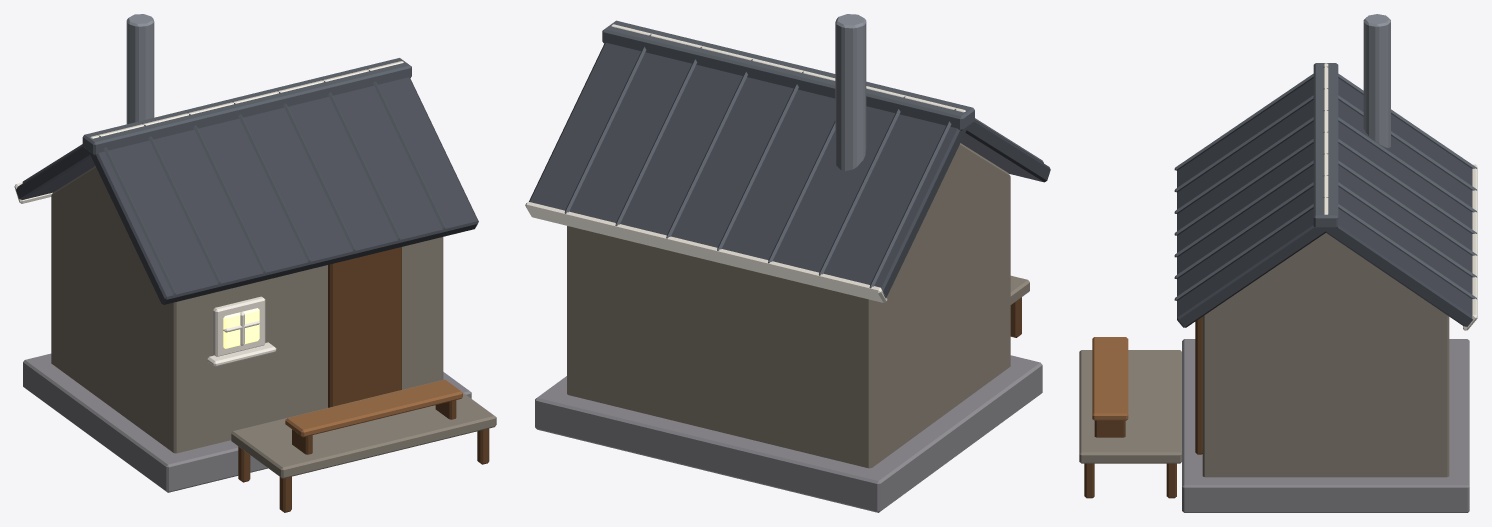
The model's file is bastu.glb.
3 renders of one model, left to right at view 1: azimuth 30°, elevation 25°; view 2: azimuth 150°, elevation 25°; view 3: azimuth 270°, elevation 25°, orthographic. The views are drawn at different scales.
Parts seen in each view (by area): view 1: bastu; view 2: bastu; view 3: bastu.
Boxes of the visible parts, x1=… form: bastu: x1=14, y1=14, x2=496, y2=512; bastu: x1=525, y1=14, x2=1050, y2=512; bastu: x1=1079, y1=14, x2=1477, y2=512.
Bounding box in the file's own units: 3.55 × 4.1 × 3.88.
